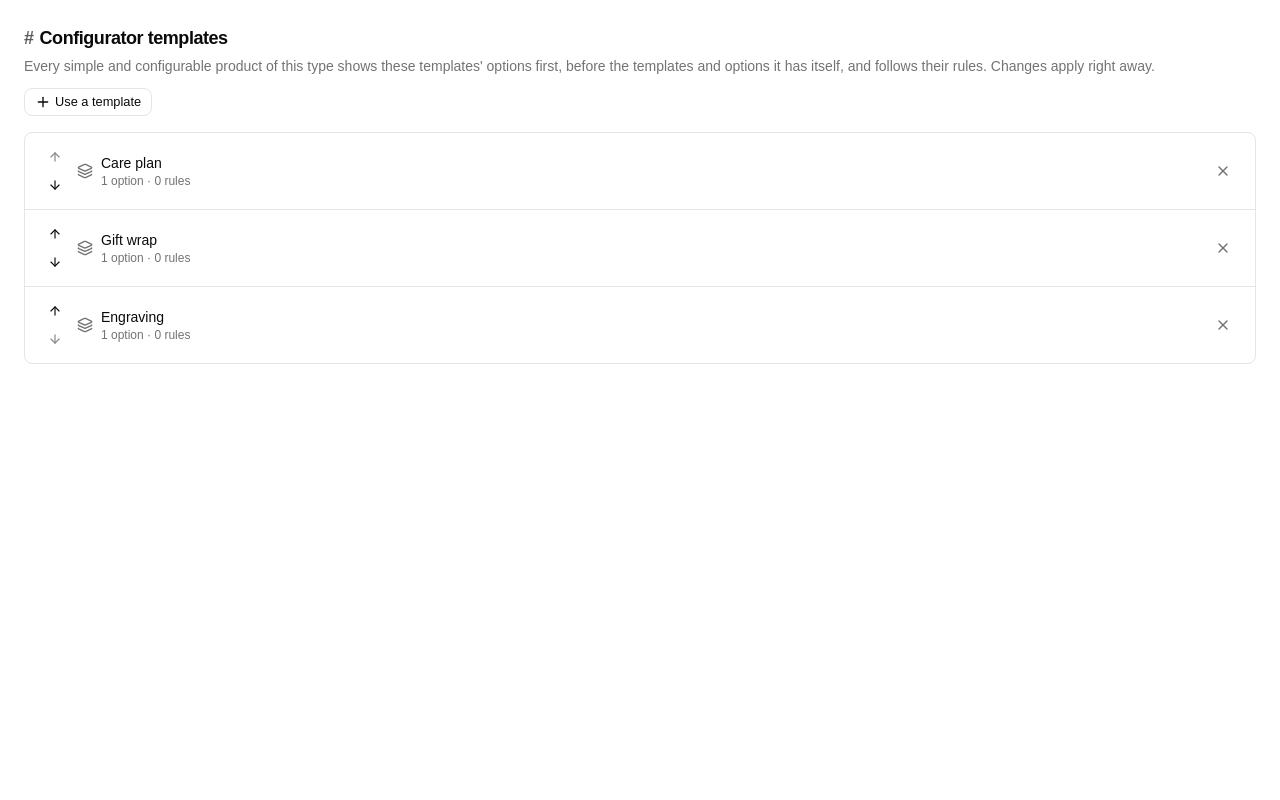
Test: ProductTypeTemplatesSection › says why a template could not be used in the dialog alone
Press the mouse on the button "Use a template" at (88,102), box [24,88,152,116]
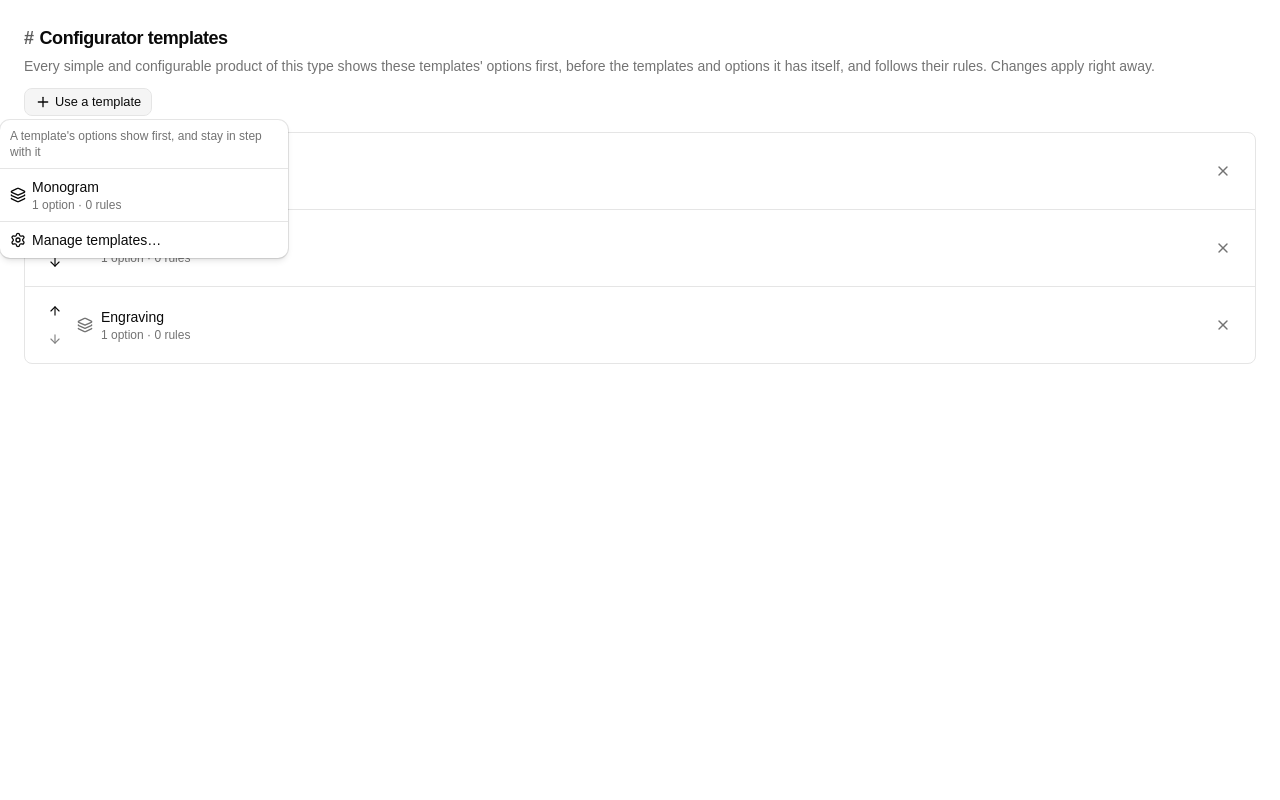
Click the menu item "Manage templates…" at (86,240), box [10,232,161,248]
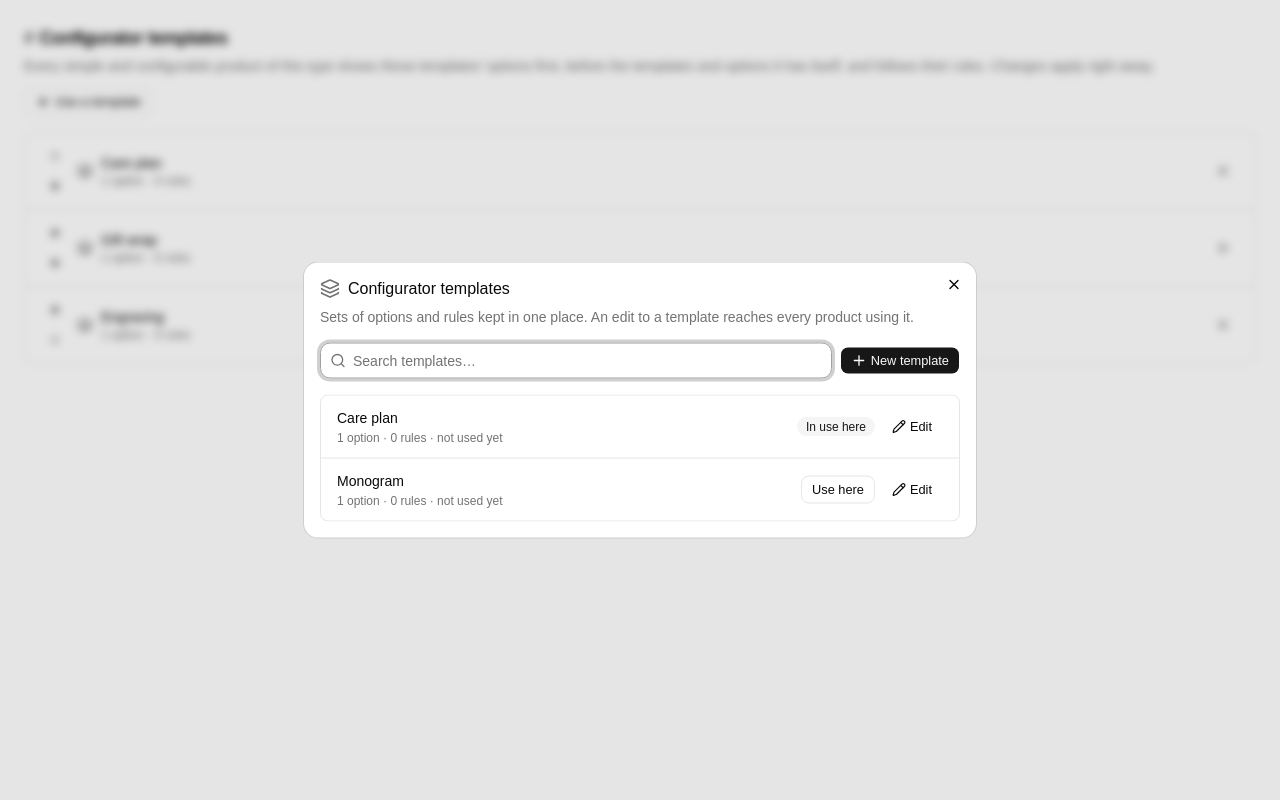
Click the button "Use here" at (838,490), box [801,476,875,504]
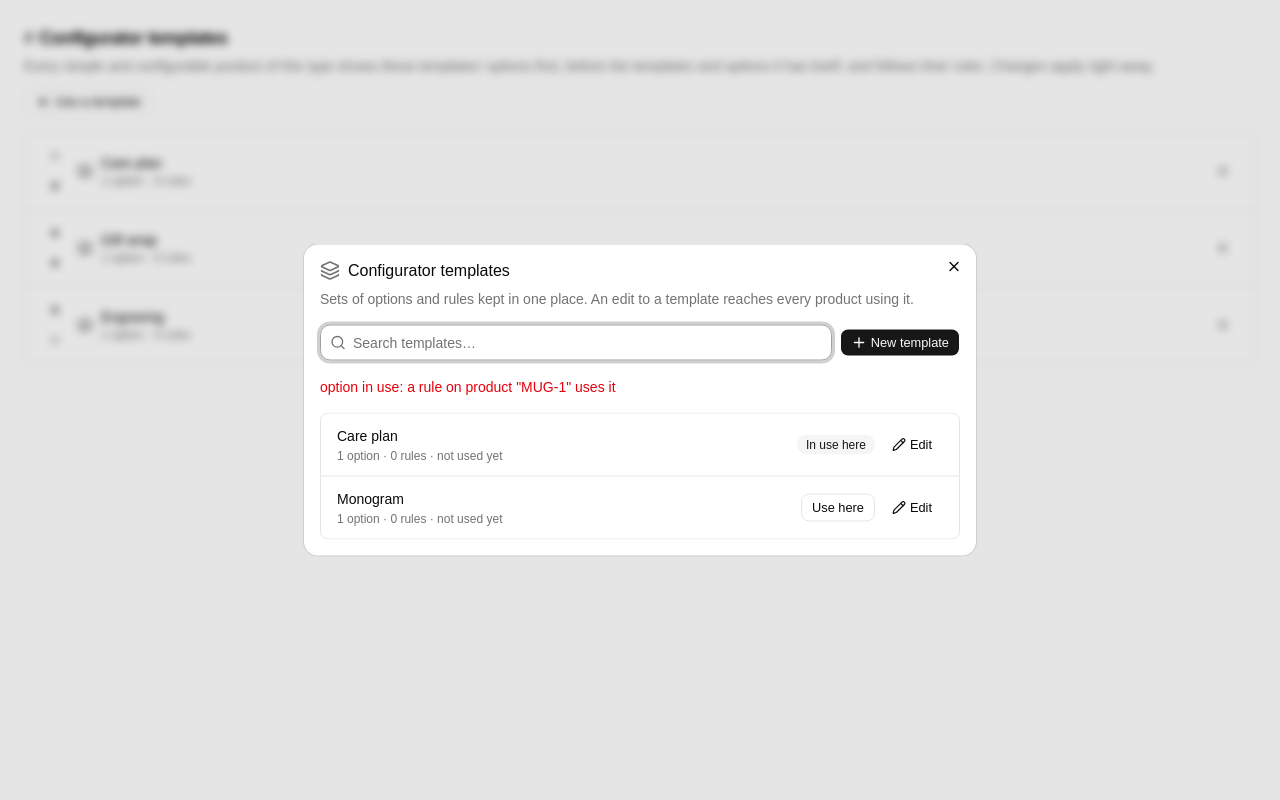
Expected: the text "option in use: a rule on product \"MUG-1\" uses it" is shown once, [320,378,616,394]
